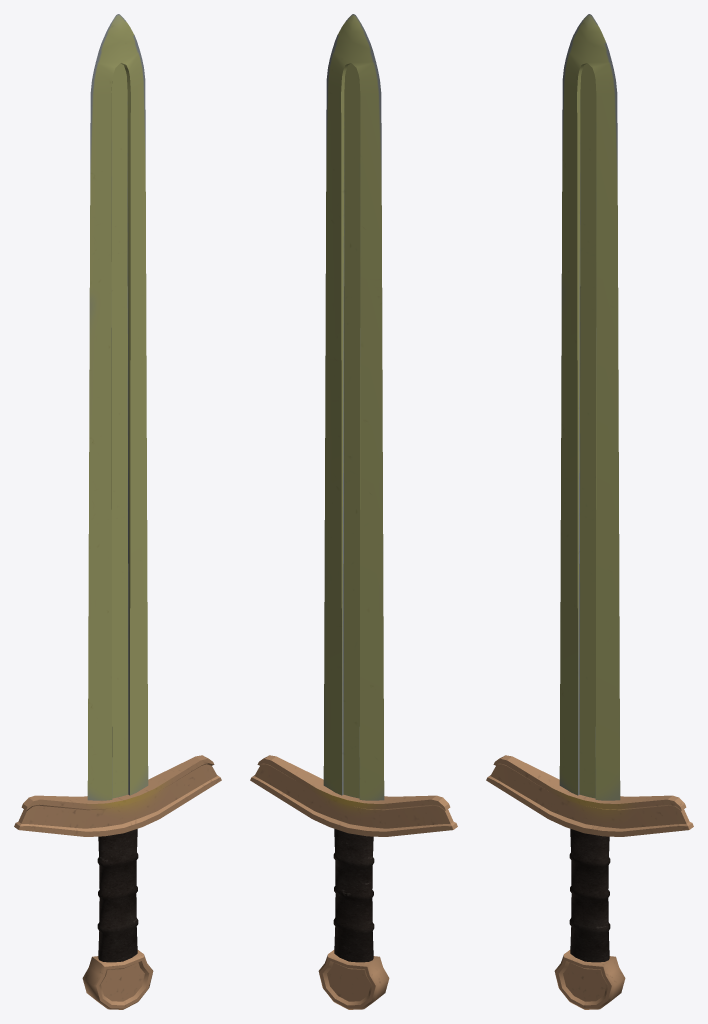
File: golden_sword.fbx
The picture shows the model from 3 angles, left to right: view 1: azimuth 30°, elevation 25°; view 2: azimuth 150°, elevation 25°; view 3: azimuth 330°, elevation 25°; orthographic projection.
Parts seen in each view (by area): view 1: sword_low; view 2: sword_low; view 3: sword_low.
Boxes of the visible parts, <box> form: sword_low: <box>14,14,221,1009</box>; sword_low: <box>250,14,457,1009</box>; sword_low: <box>486,14,693,1009</box>.
Bounding box in the file's own units: 0.1598 × 0.7449 × 0.0173.
Materials: 1 (1 with a texture image).
